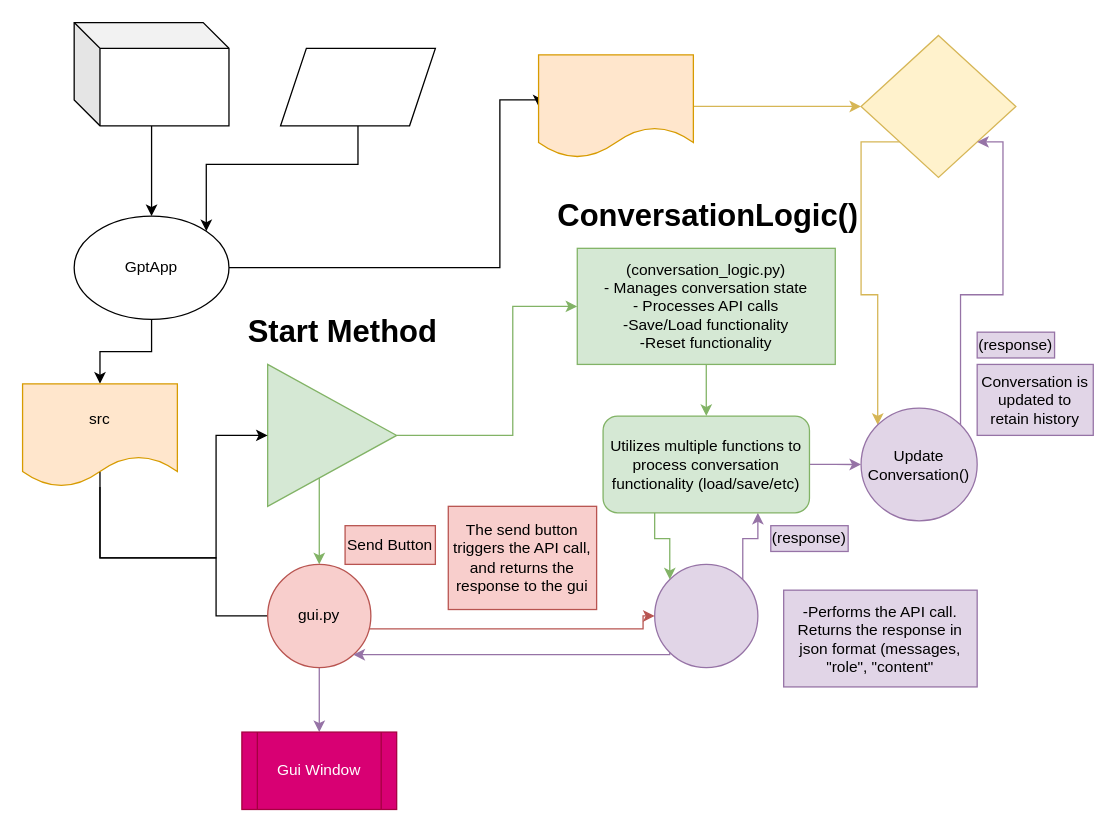
Image size: 1116x832. Some labels were removed from this diagram. The box of each missing label's shape, as (x1, y1, x2, y2) in pixels:
.env (api key): (73, 21, 229, 126)
chat_gpt(): (653, 563, 758, 668)
configs.json: (279, 47, 435, 126)
conversation.json: (860, 34, 1016, 177)
data: (537, 54, 693, 158)
main.py: (266, 363, 397, 506)
